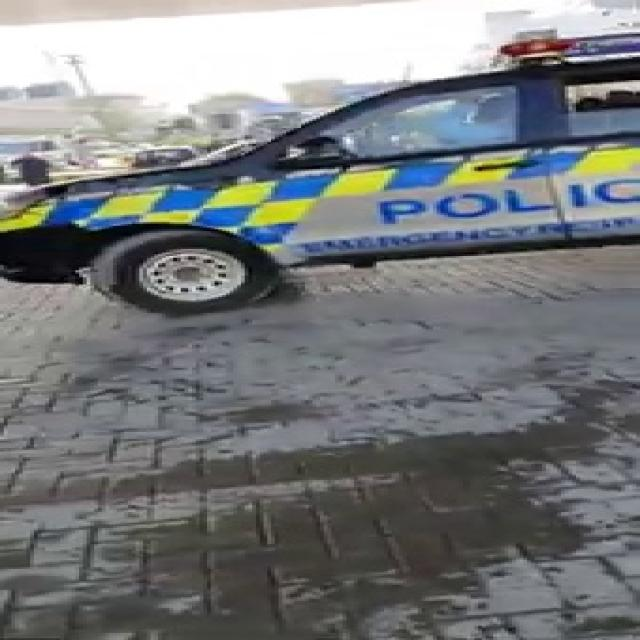police: (22, 7, 640, 307)
